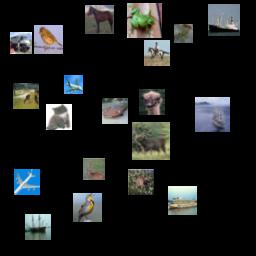airplane: (14, 169, 40, 195), (64, 75, 83, 94)
automobile: (102, 98, 128, 124)
bird: (73, 193, 102, 222), (34, 25, 63, 54), (139, 89, 165, 115)
cat: (46, 104, 72, 130)
deer: (132, 122, 170, 160), (128, 169, 154, 195), (13, 83, 39, 109), (83, 158, 105, 180)
frog: (127, 3, 162, 38), (174, 24, 193, 43)
ship: (195, 97, 230, 132), (208, 4, 240, 36), (168, 186, 197, 215), (25, 214, 51, 240)
truck: (10, 32, 32, 54)
